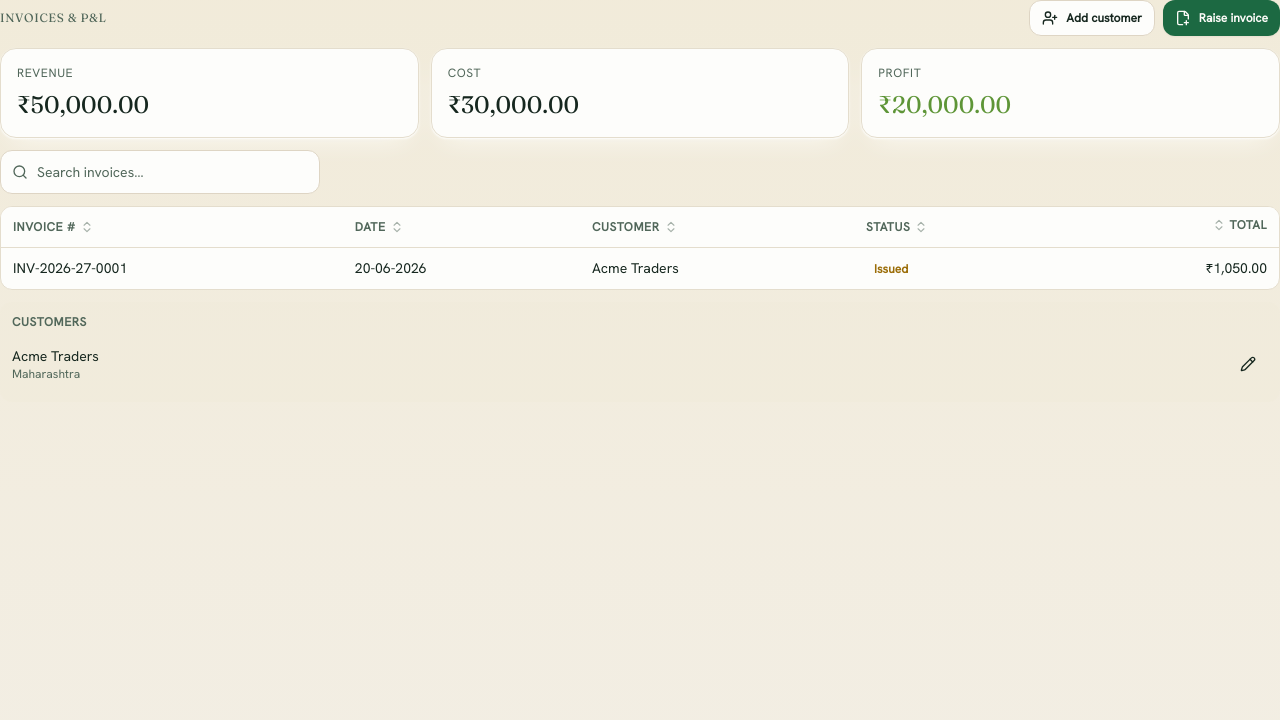
it: InvoicePanel (11.6c conversion) › builds a multi-line invoice with a live GST estimate mirroring the server split
Check: the text "INV-2026-27-0001" is shown, box [13,259,127,277]
Click the button "Raise invoice" at [1221, 18], box [1163,0,1279,36]
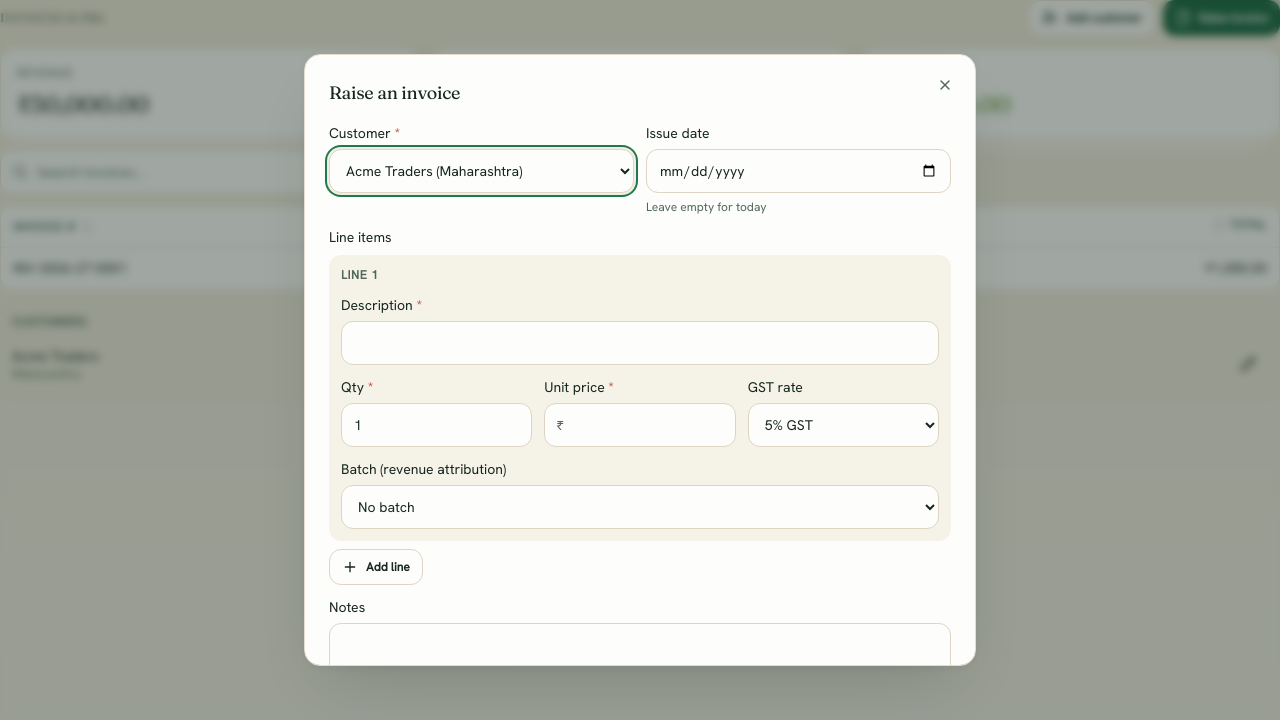
Type "Broiler crate" into the field labelled "Description *" at [640, 343], box [341,321,939,365]
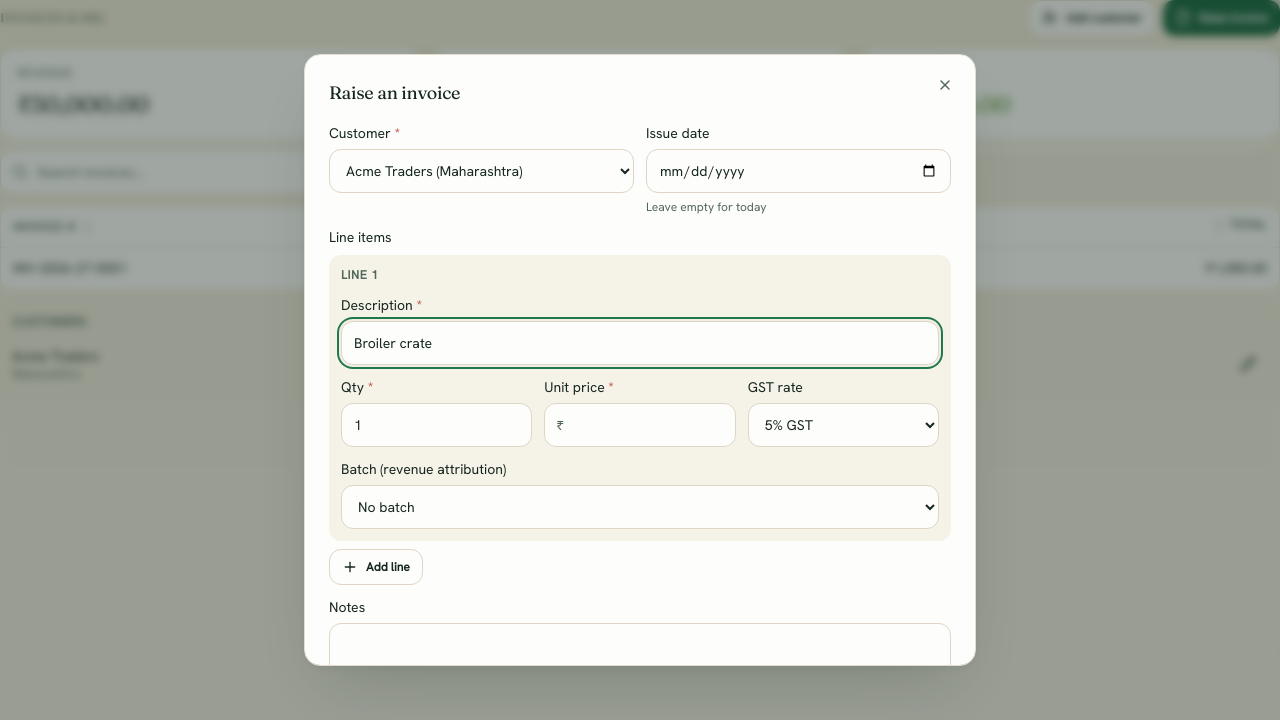
Replace the text in the number field labelled "Qty *" with "2" at [437, 425], box [341,403,532,447]
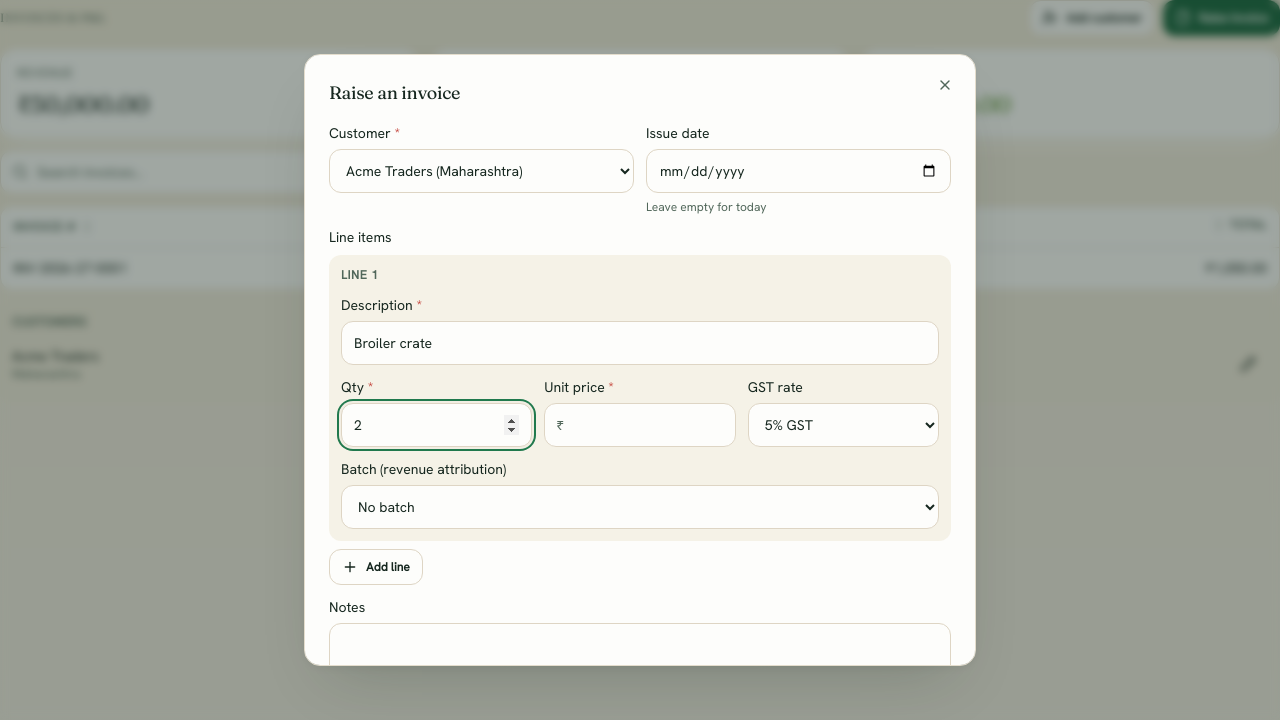
Type "100" into the field labelled "Unit price *" at [640, 425], box [544,403,736,447]
(page scrolled)
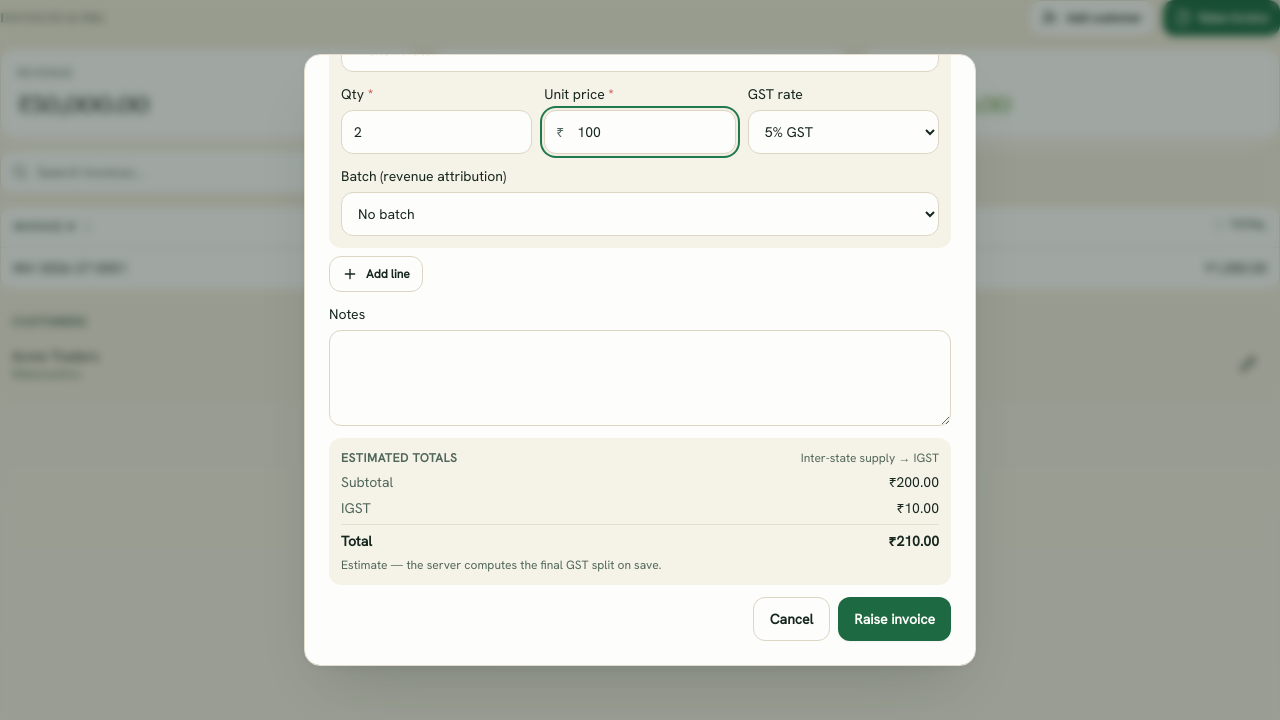
Check: the text "₹200.00" is shown, box [889,472,939,492]
Check: the text "₹10.00" is shown, box [897,498,939,518]
Check: the text "₹210.00" is shown, box [888,531,939,551]
Click the button "Raise invoice" at [895, 619], box [838,597,951,641]
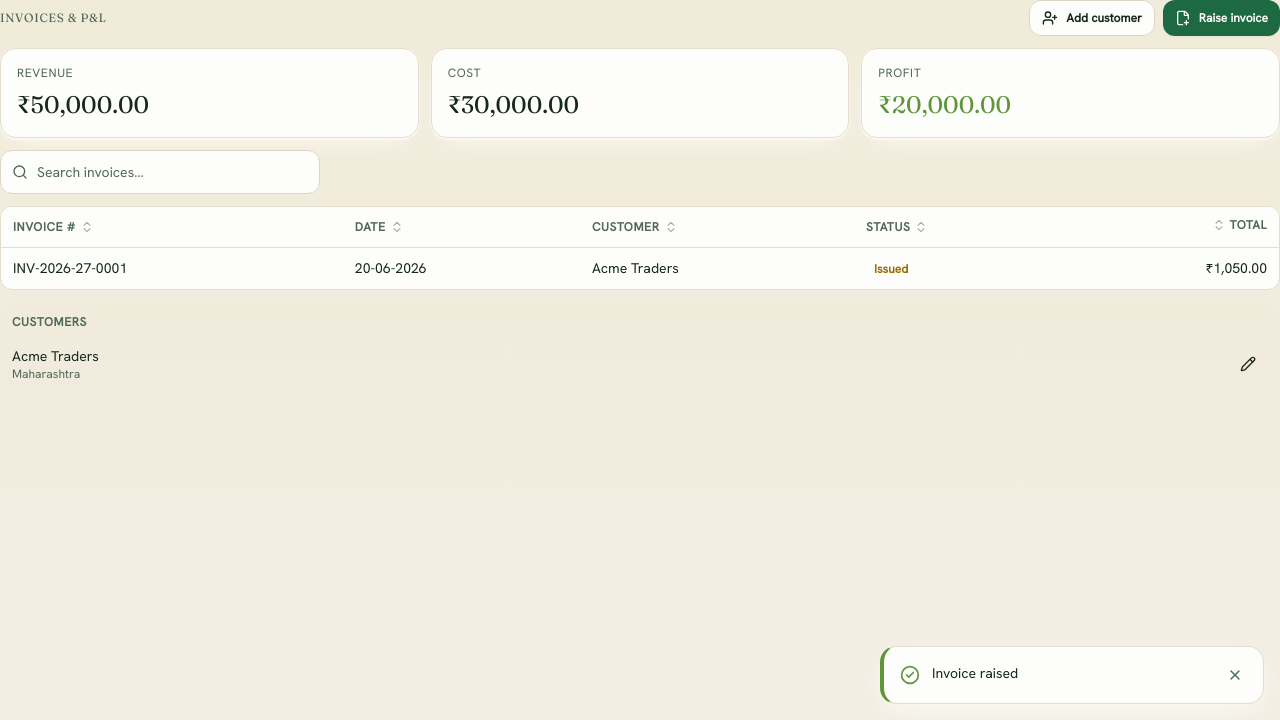
Check: the text "Invoice raised" is shown, box [932,664,1018,682]
